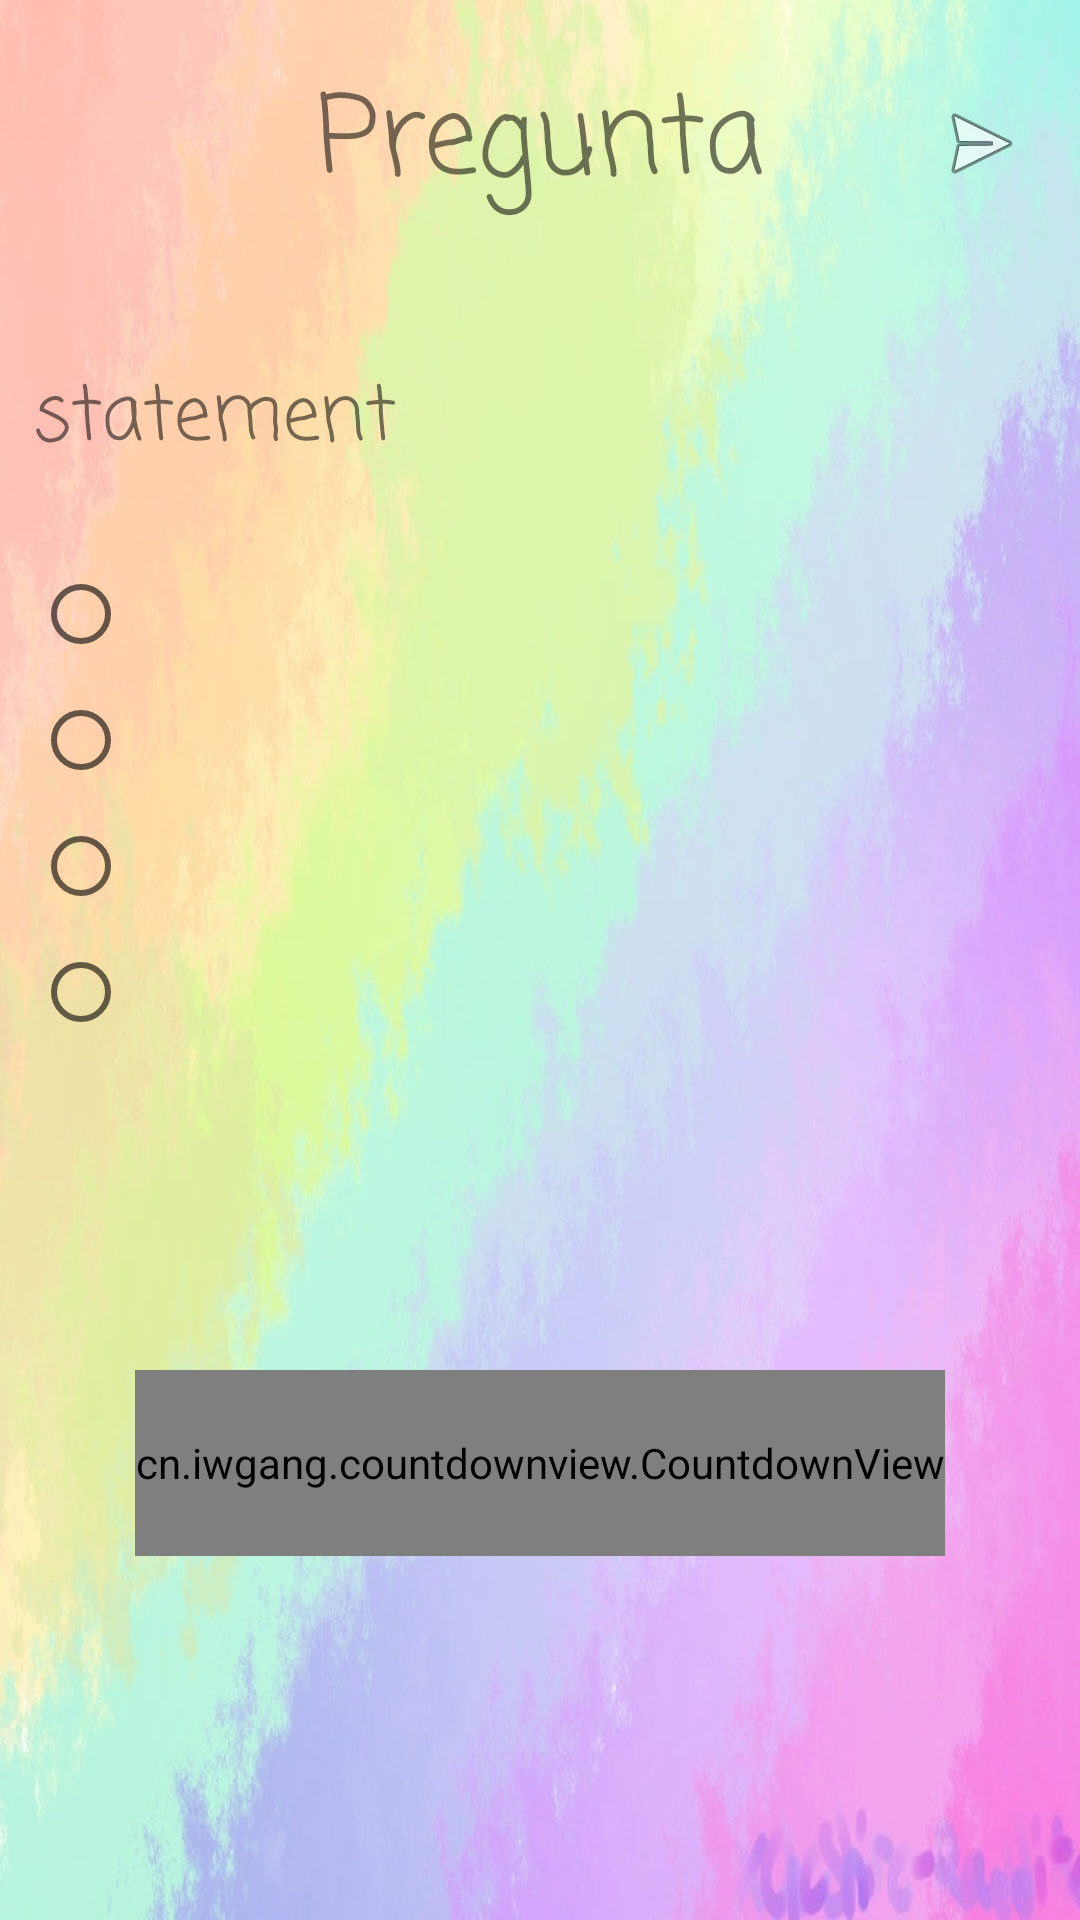

Named icons in this screenshot (1080 x 1920) and their bounding boxes, (x1, y1, x2, y2):
send: (951, 113, 1013, 174)
